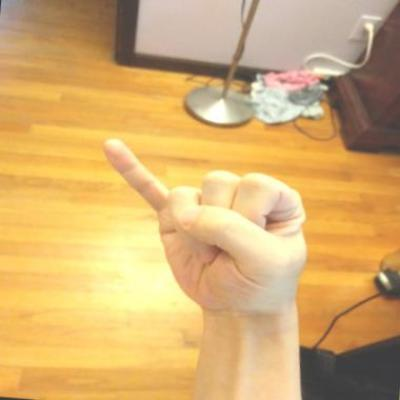hand: (84, 133, 324, 323)
